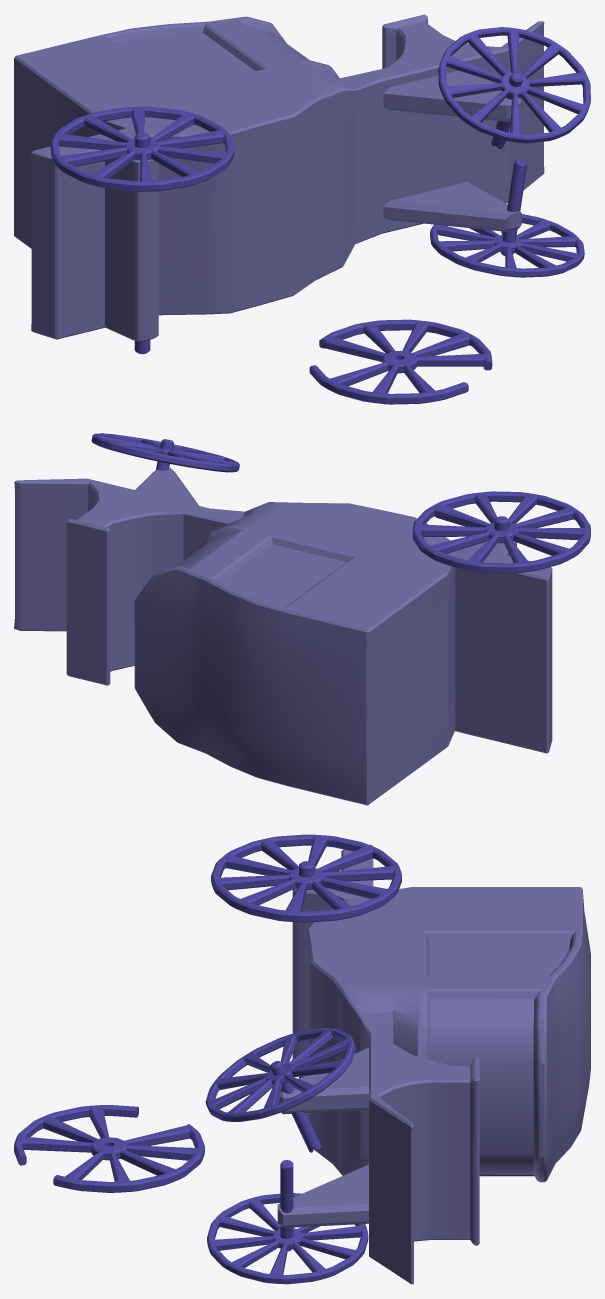
File: Carriage.fbx
The picture shows the model from 3 angles, top to bottom: view 1: azimuth 30°, elevation 25°; view 2: azimuth 150°, elevation 25°; view 3: azimuth 270°, elevation 25°; orthographic projection. The views are drawn at different scales.
Visible parts, largest first — view 1: Body, Back_wheel_R, Front_wheel_R, Back_wheel_L, Front_wheel_L, Wheel_base_front_L; view 2: Body, Back_wheel_R, Front_wheel_R; view 3: Body, Back_wheel_R, Back_wheel_L, Front_wheel_R, Front_wheel_L, Wheel_base_front_R, Wheel_base_front_L.
Part boxes in pixels (x1=…): Body: x1=14, y1=14, x2=544, y2=341; Back_wheel_R: x1=50, y1=106, x2=234, y2=191; Front_wheel_R: x1=438, y1=27, x2=590, y2=143; Back_wheel_L: x1=309, y1=319, x2=492, y2=404; Front_wheel_L: x1=430, y1=214, x2=584, y2=277; Wheel_base_front_L: x1=500, y1=159, x2=527, y2=255; Body: x1=14, y1=467, x2=552, y2=805; Back_wheel_R: x1=412, y1=491, x2=590, y2=573; Front_wheel_R: x1=91, y1=433, x2=239, y2=472; Body: x1=277, y1=844, x2=590, y2=1284; Back_wheel_R: x1=211, y1=834, x2=401, y2=922; Back_wheel_L: x1=14, y1=1105, x2=204, y2=1192; Front_wheel_R: x1=205, y1=1028, x2=355, y2=1121; Front_wheel_L: x1=207, y1=1193, x2=368, y2=1284; Wheel_base_front_R: x1=270, y1=1061, x2=321, y2=1152; Wheel_base_front_L: x1=280, y1=1160, x2=293, y2=1251.
Bounding box in the file's own units: 6.1 × 2.39 × 5.54.
